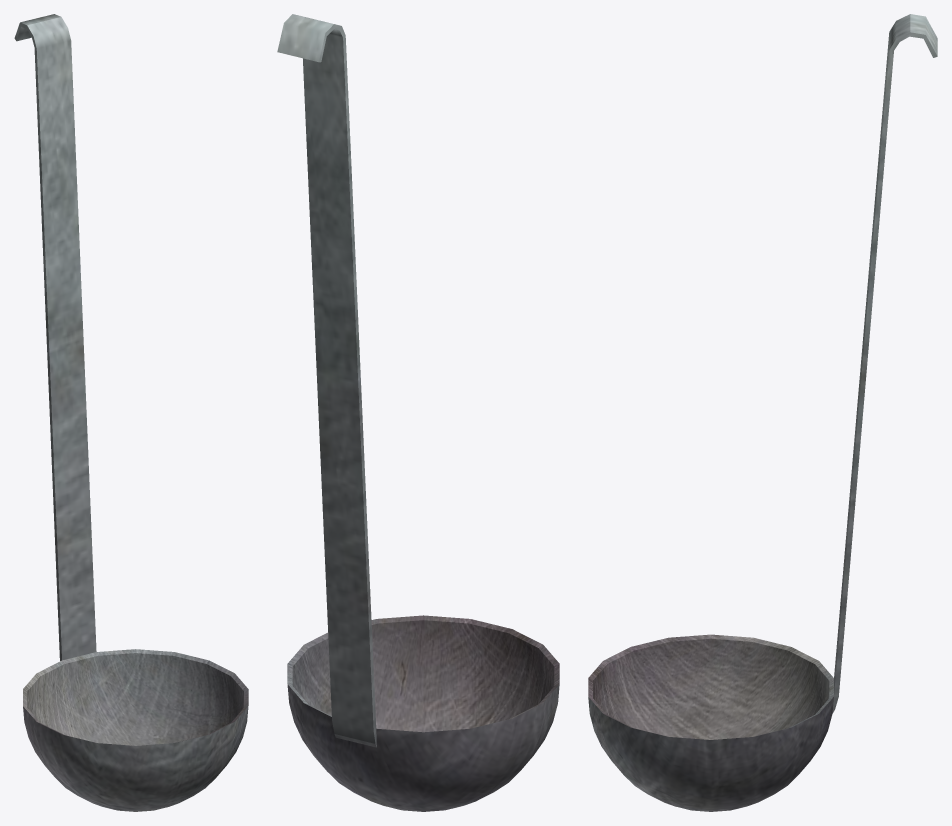
The model's file is soeplepel.fbx.
3 views of the same model, side by side, from view 1: azimuth 30°, elevation 25°; view 2: azimuth 150°, elevation 25°; view 3: azimuth 270°, elevation 25° (orthographic). The views are drawn at different scales.
Parts seen in each view (by area): view 1: soeplepel; view 2: soeplepel; view 3: soeplepel.
Part boxes in pixels (bbox=[...]): soeplepel: bbox=[14, 14, 248, 811]; soeplepel: bbox=[277, 14, 559, 811]; soeplepel: bbox=[588, 14, 937, 811].
Bounding box in the file's own units: 9.92 × 34.07 × 13.89.
1 material, 1 textured.
